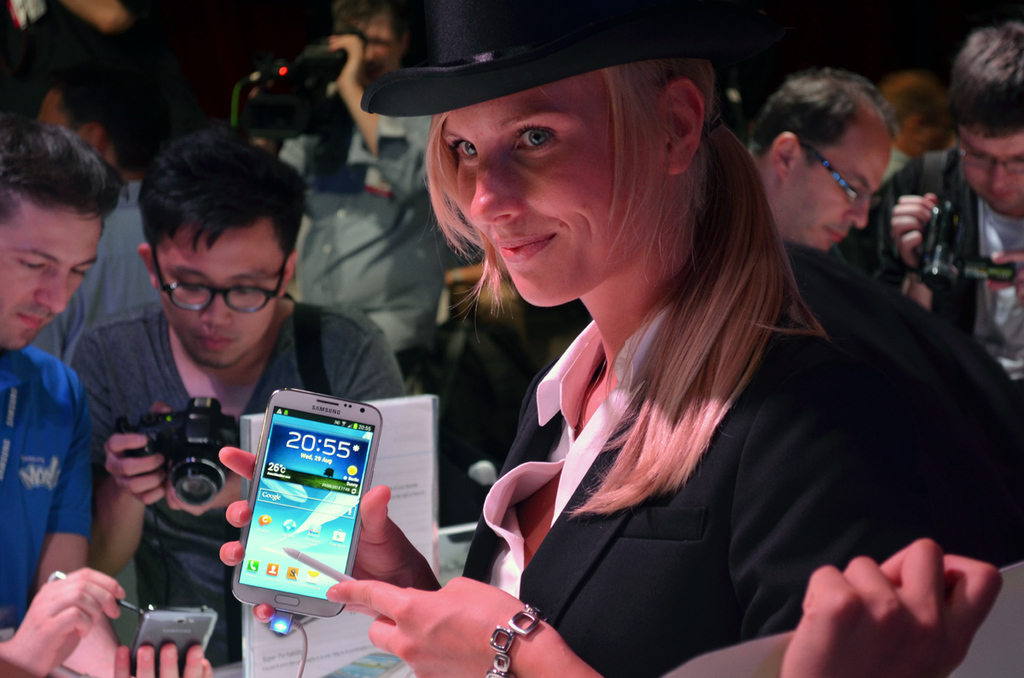Mobile-phone: (237, 386, 383, 612), (133, 606, 221, 677)
